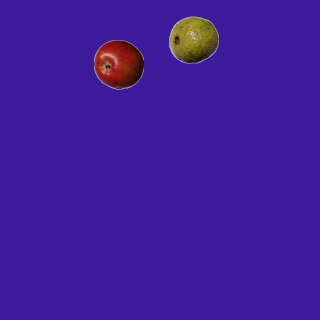Apple Braeburn: (93, 39, 143, 89)
Guava: (168, 14, 218, 64)
